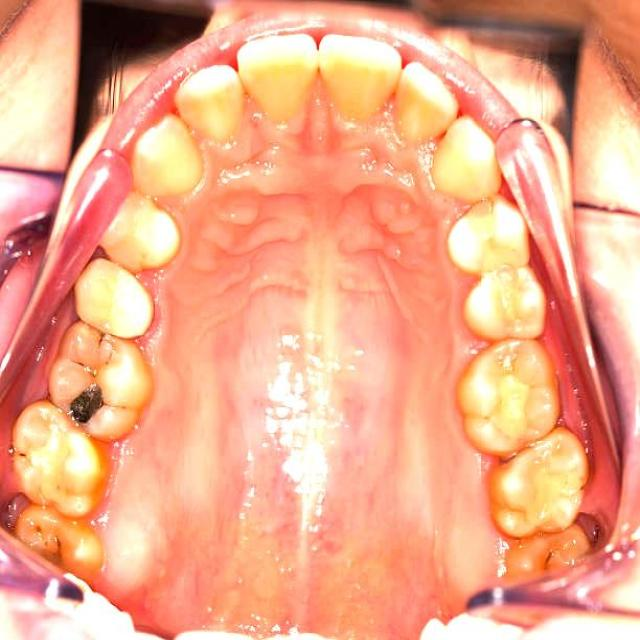caries: (64, 321, 121, 376), (59, 372, 114, 427), (24, 518, 77, 564), (8, 438, 43, 477), (536, 541, 564, 575)
